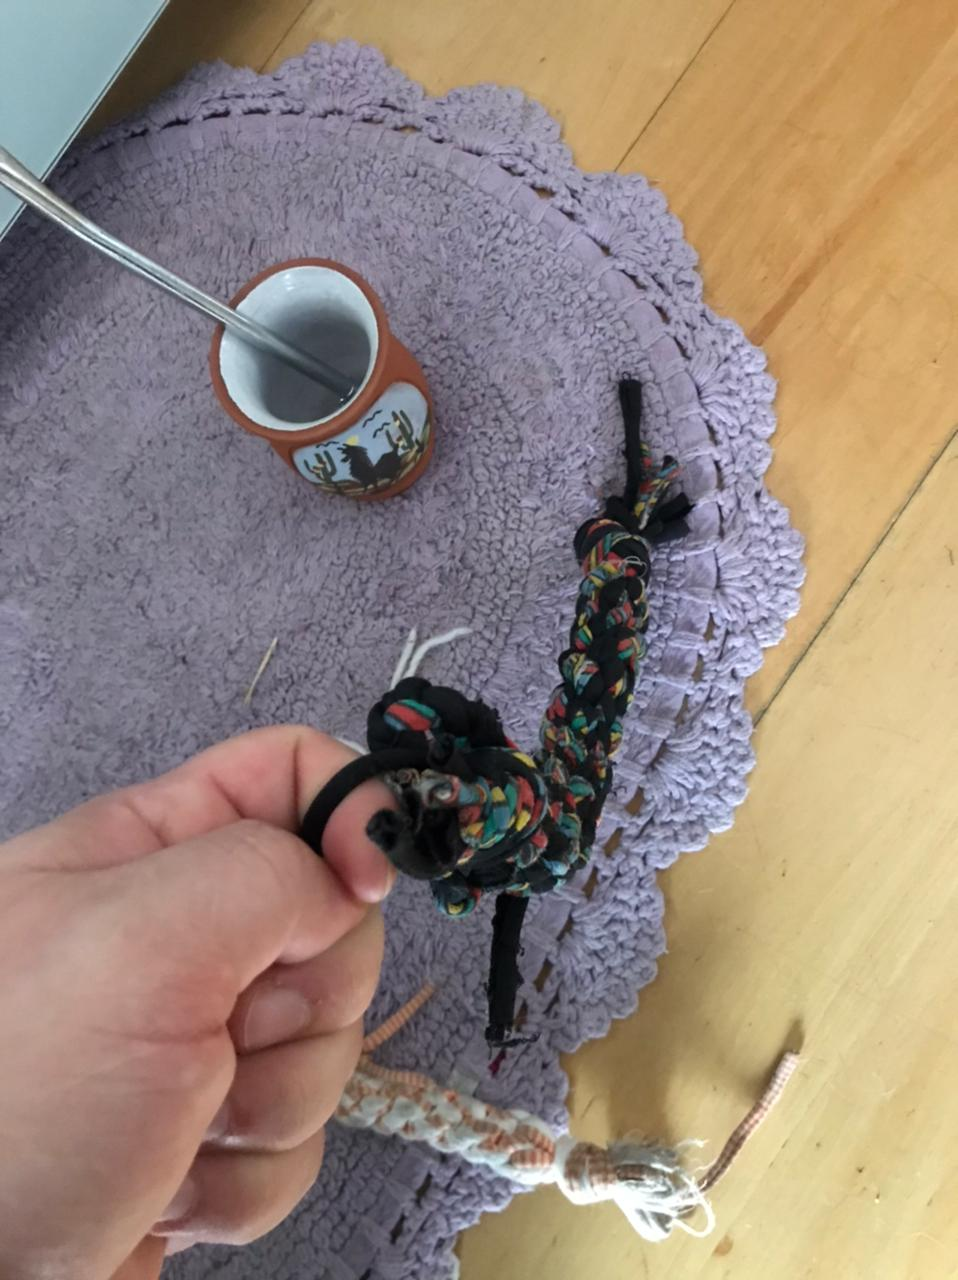mate: (1, 138, 452, 504)
